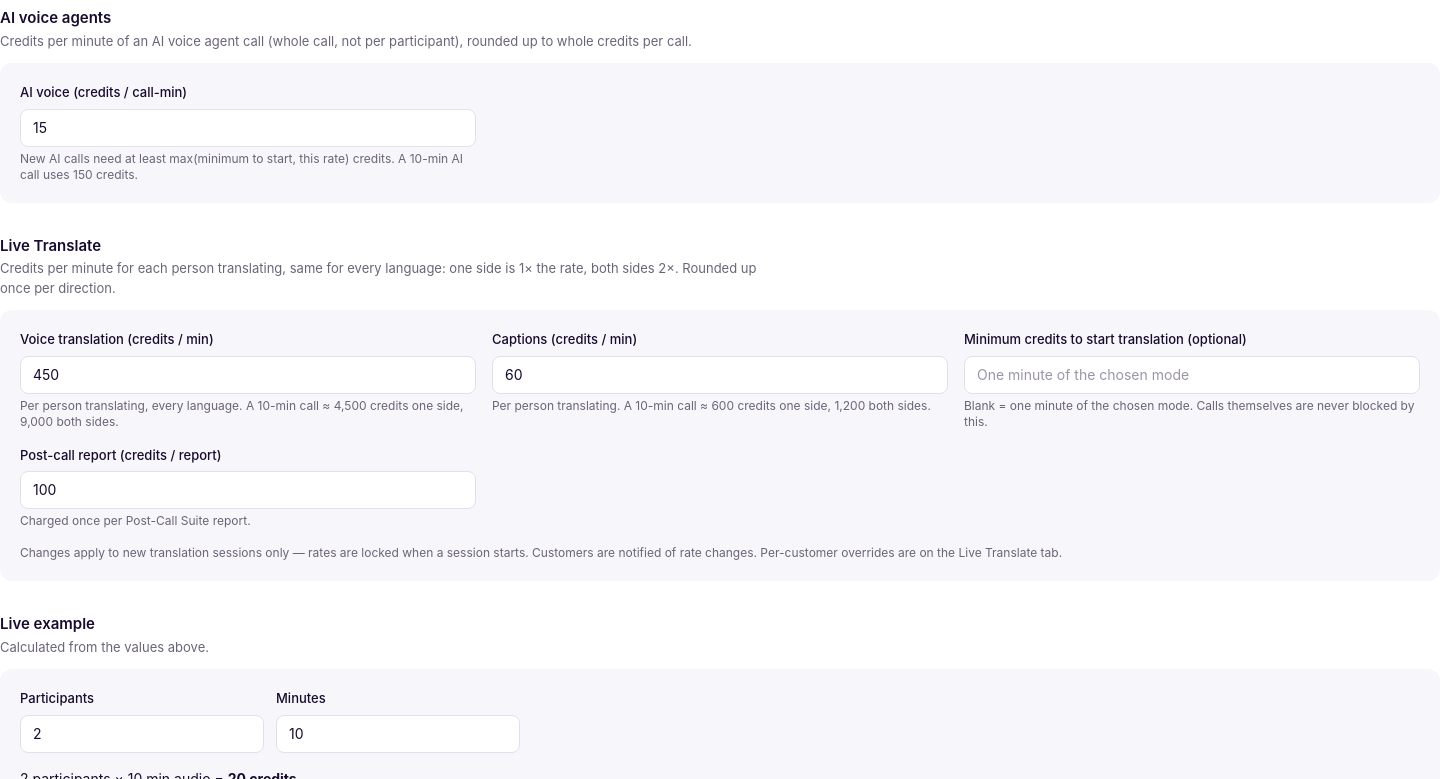
Test: Credit rates — Live Translate group › rejects a zero voice rate
(page scrolled)
Replace the text in the number field labelled "Voice translation (credits / min)" with "0" at [248, 374], box [20,356,476,394]
(page scrolled)
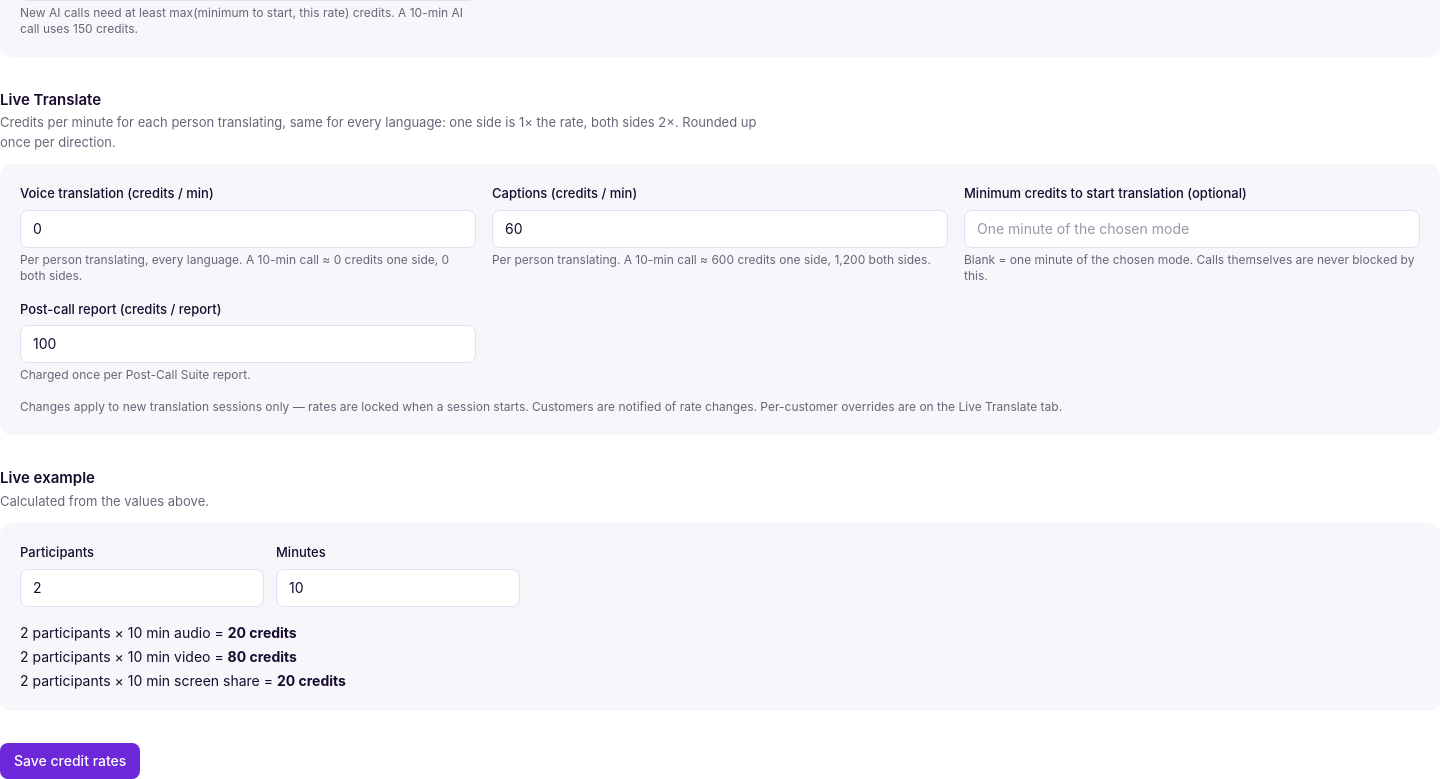
Click the button "Save credit rates" at [70, 760], box [0,742,140,778]
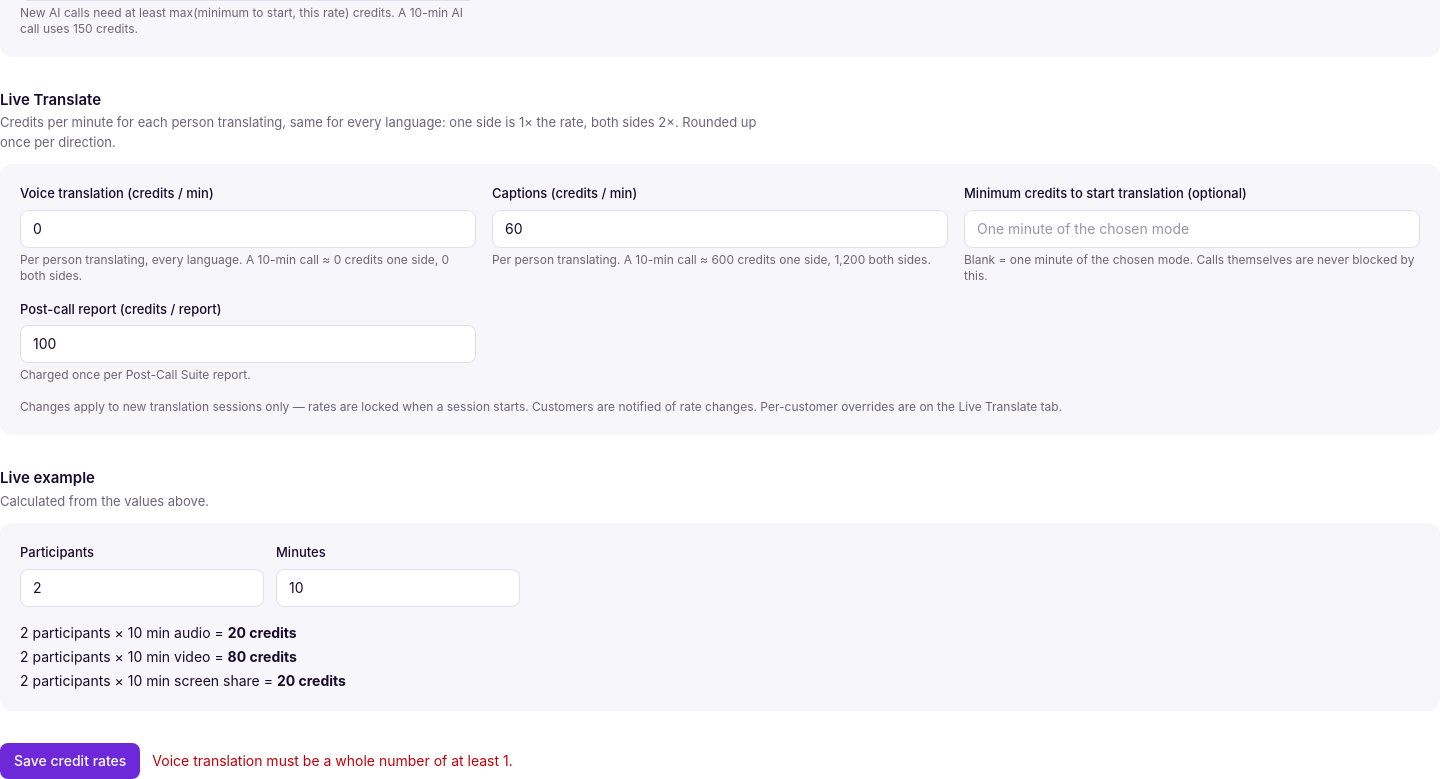
Now the text "Voice translation must be a whole number of at least 1." is shown, box [152,750,513,770]
